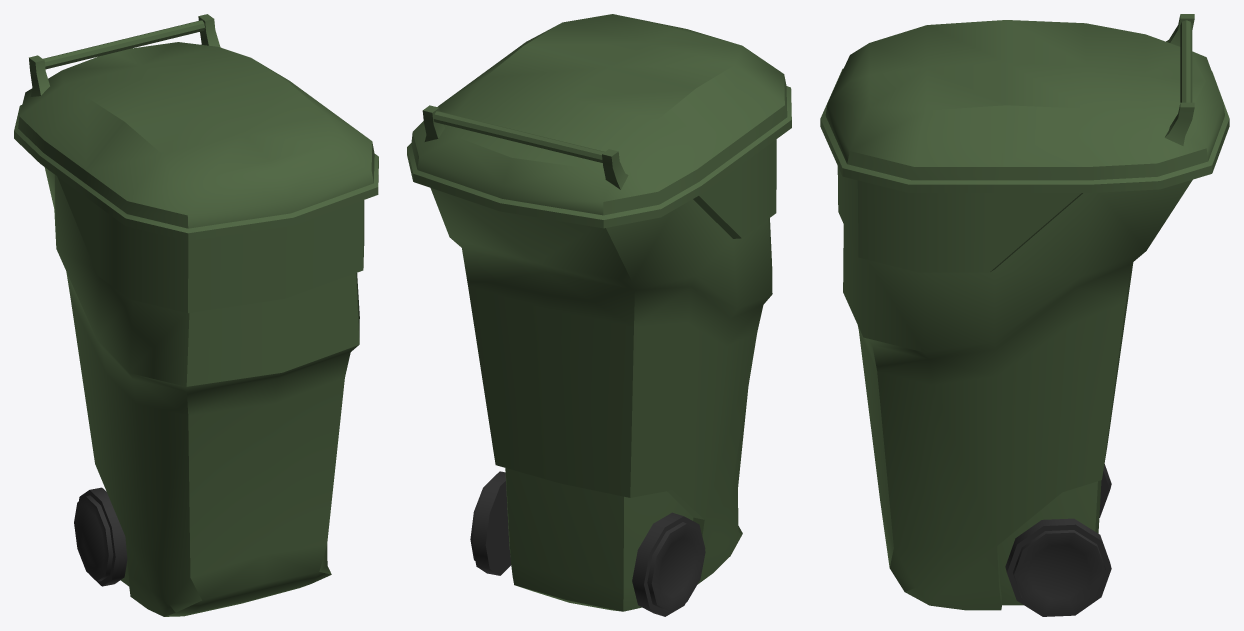
Rendered from Trashcan_Green.gltf.
3 renders of one model, left to right at view 1: azimuth 30°, elevation 25°; view 2: azimuth 150°, elevation 25°; view 3: azimuth 270°, elevation 25°, orthographic. The views are drawn at different scales.
Parts seen in each view (by area): view 1: Trashcan_Green; view 2: Trashcan_Green; view 3: Trashcan_Green.
Part boxes in pixels (<box>): Trashcan_Green: <box>14,14,378,616</box>; Trashcan_Green: <box>407,14,791,616</box>; Trashcan_Green: <box>820,14,1229,616</box>.
Bounding box in the file's own units: 1.22 × 2.21 × 1.59.
